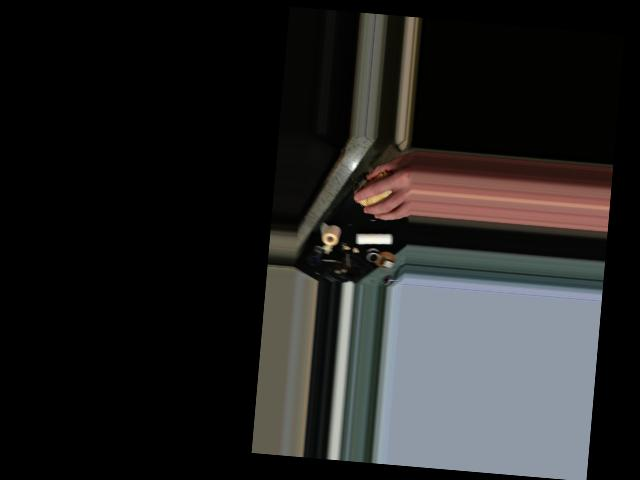onion: (354, 167, 401, 212)
